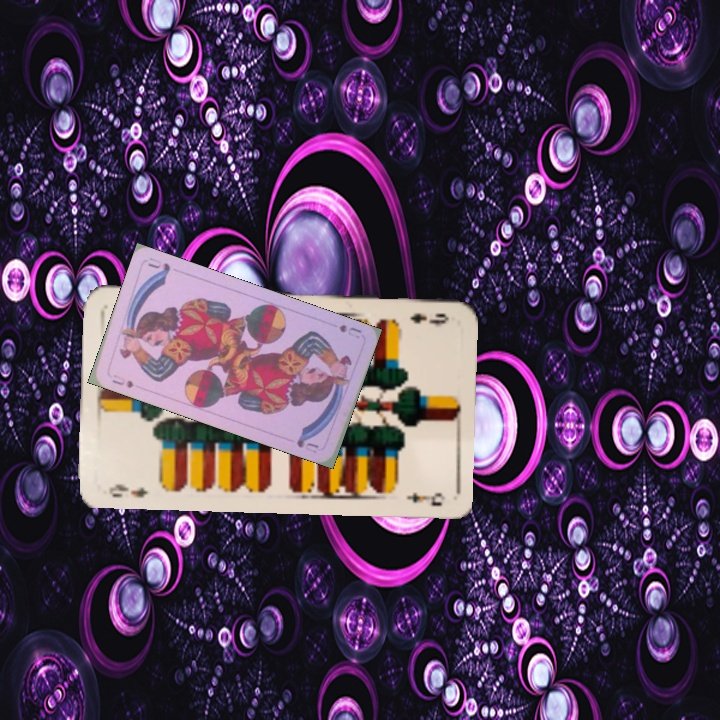E9: (105, 480, 151, 500), (406, 309, 451, 327)
SU: (335, 320, 364, 341), (108, 370, 136, 391)
